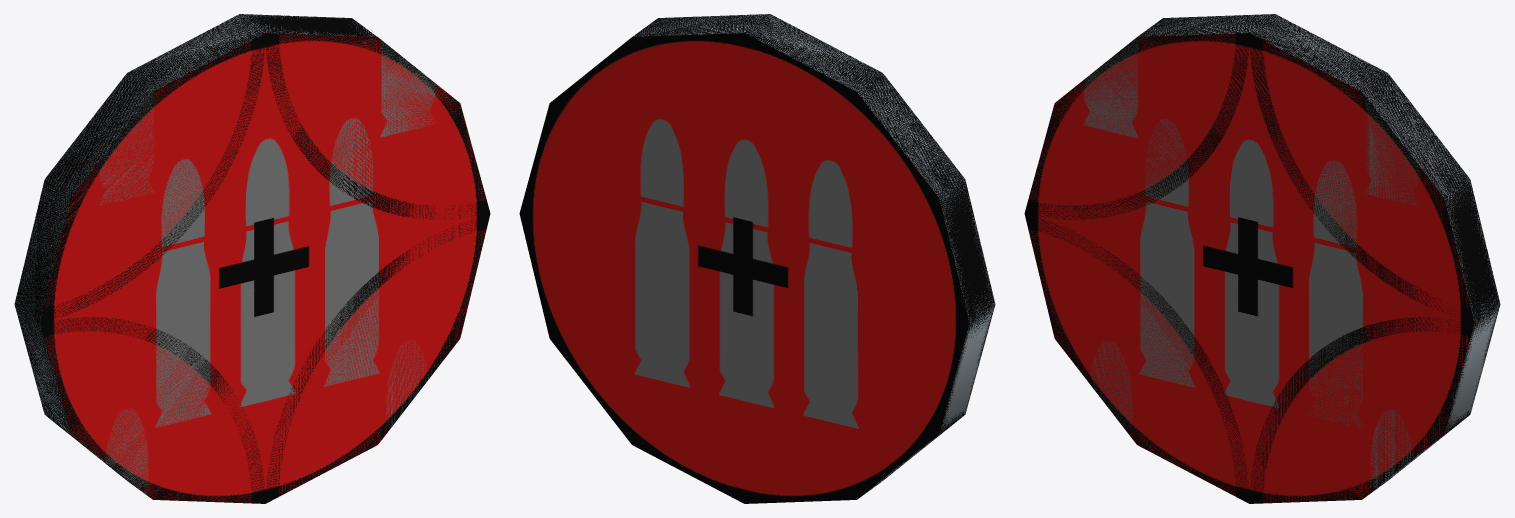
File: AddAmmo.fbx
3 renders of one model, left to right at view 1: azimuth 30°, elevation 25°; view 2: azimuth 150°, elevation 25°; view 3: azimuth 330°, elevation 25°, orthographic.
Parts seen in each view (by area): view 1: Model; view 2: Model; view 3: Model.
Part boxes in pixels (bbox=[...]): Model: bbox=[14, 14, 490, 503]; Model: bbox=[519, 14, 995, 503]; Model: bbox=[1024, 14, 1500, 503].
Size of the model in its own units: 1 by 1 by 0.1.
